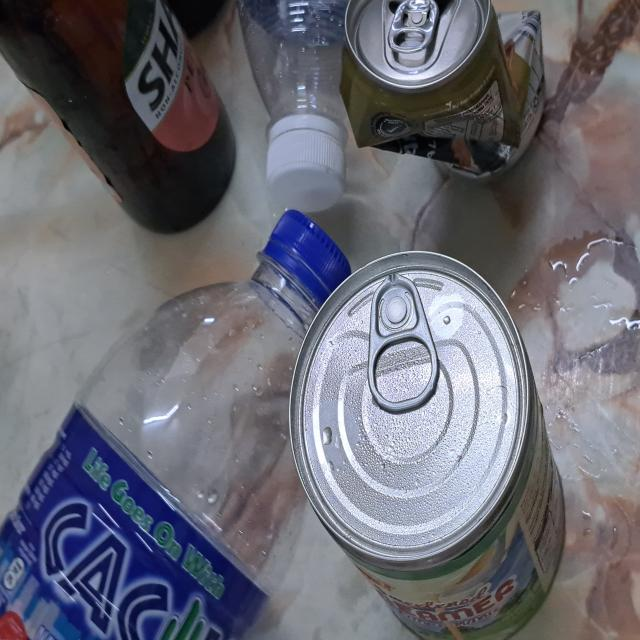can: (287, 246, 567, 640), (335, 0, 549, 176)
glass bottle: (0, 0, 238, 232)
plastic bottle: (0, 258, 319, 640), (236, 0, 355, 117)
plastic bottle cap: (268, 120, 348, 217), (270, 209, 353, 296)
pop tab: (366, 279, 440, 409), (389, 0, 441, 56)
